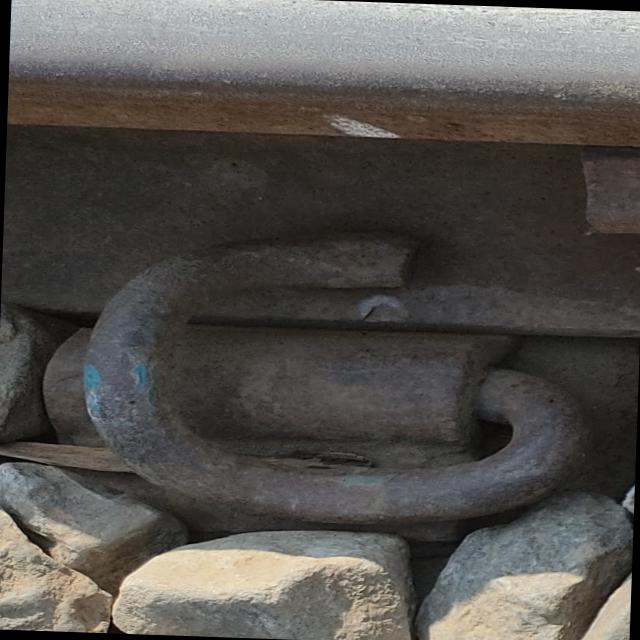track_bolt: (66, 215, 610, 538)
